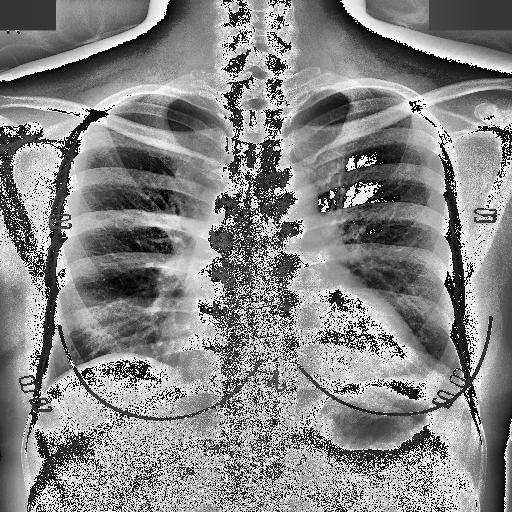3- Cardiomegaly: (166, 302, 430, 383), (154, 300, 434, 374), (168, 312, 426, 374)
